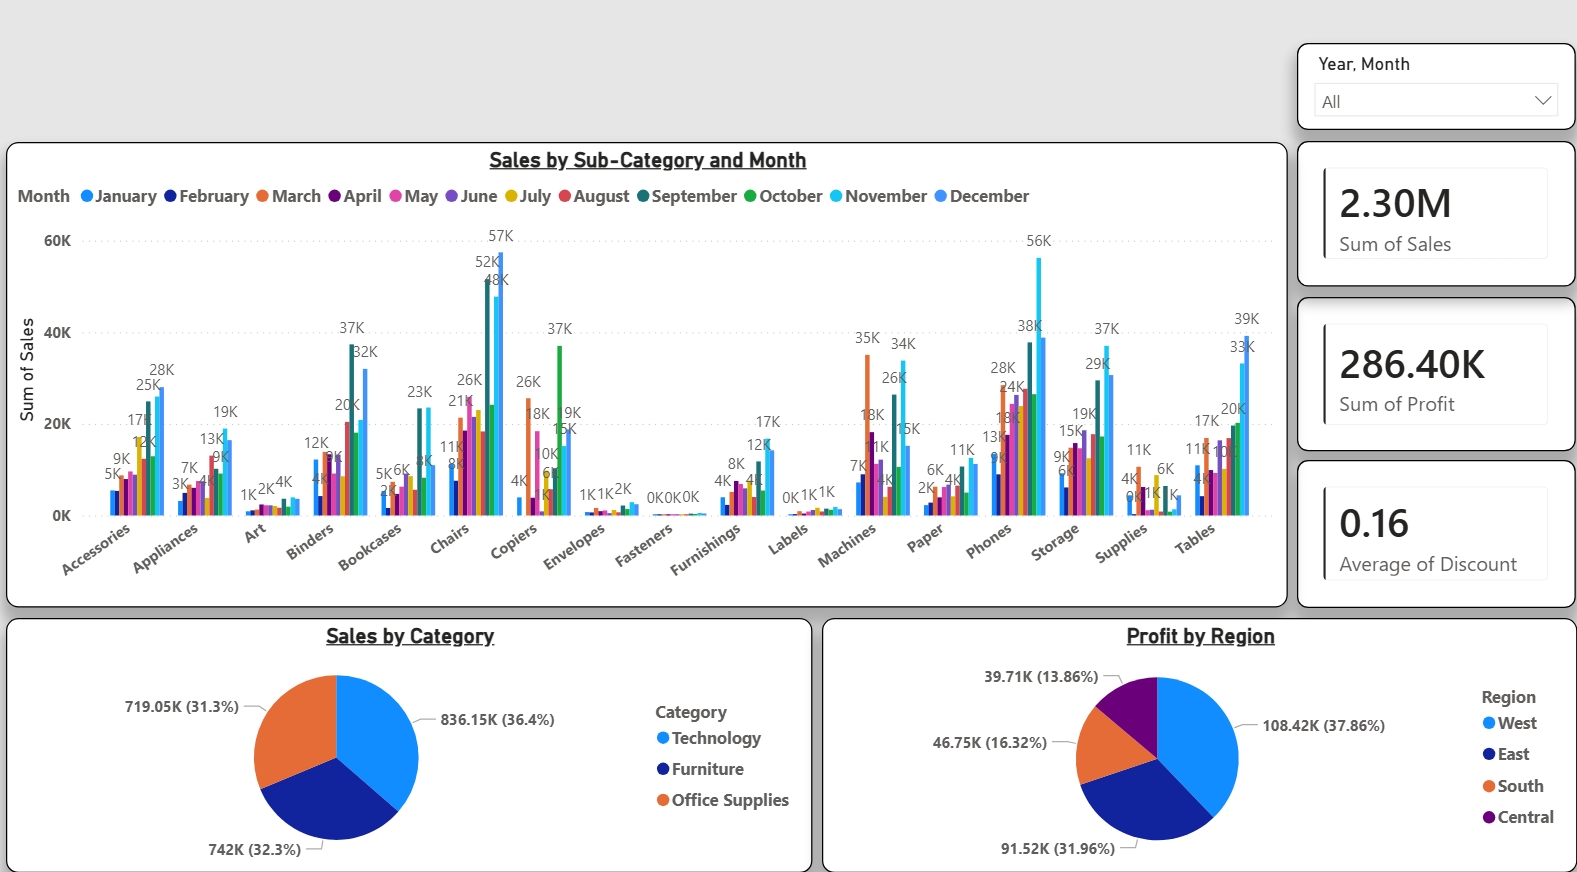

Layout of this report page (visuals, bound fields, positions):
{"tool":"powerbi","page":{"name":"Page 1","canvas":[1280,720],"ordinal":0},"visuals":[{"type":"slicer","fields":{"Values":["Orders.Order month.Variation.Date Hierarchy.Year","Orders.Order month.Variation.Date Hierarchy.Month"]},"box":[1046.3,40.8,224.3,70],"z":0},{"type":"cardVisual","fields":{"Data":["Sum(Orders.Profit)"]},"box":[1046.6,245.1,223.7,124.5],"z":1000},{"type":"cardVisual","fields":{"Data":["Sum(Orders.Sales)"]},"box":[1046.6,119.6,223.7,116.7],"z":2000},{"type":"cardVisual","fields":{"Data":["Avg(Orders.Discount)"]},"box":[1046.6,376.4,223.7,118.7],"z":3000},{"type":"clusteredColumnChart","title":"Sales by Sub-Category and Month","fields":{"Y":["Sum(Orders.Sales)"],"Category":["Orders.Sub-Category"],"Series":["Orders.Order month.Variation.Date Hierarchy.Month"]},"box":[8.8,120.6,1030,374.5],"z":4000},{"type":"pieChart","title":"Sales by Category","fields":{"Category":["Orders.Category"],"Y":["Sum(Orders.Sales)"]},"box":[8.8,502.9,647.8,205.2],"z":5000},{"type":"pieChart","title":"Profit by Region","fields":{"Category":["Orders.Region"],"Y":["Sum(Orders.Profit)"]},"box":[664.3,502.9,606.9,205.2],"z":6000}]}

Visuals, with their boxes in screenshot pixels (x1, y1, x2, y2), scaled from the page's 1280x720 canvas onto the 1577x872 screenshot:
slicer - Orders.Order month.Variation.Date Hierarchy.Year x Orders.Order month.Variation.Date Hierarchy.Month: region(1289, 49, 1565, 134)
cardVisual - Sum(Orders.Profit): region(1289, 297, 1565, 448)
cardVisual - Sum(Orders.Sales): region(1289, 145, 1565, 286)
cardVisual - Avg(Orders.Discount): region(1289, 456, 1565, 600)
"Sales by Sub-Category and Month" clusteredColumnChart: region(11, 146, 1280, 600)
"Sales by Category" pieChart: region(11, 609, 809, 858)
"Profit by Region" pieChart: region(818, 609, 1566, 858)
